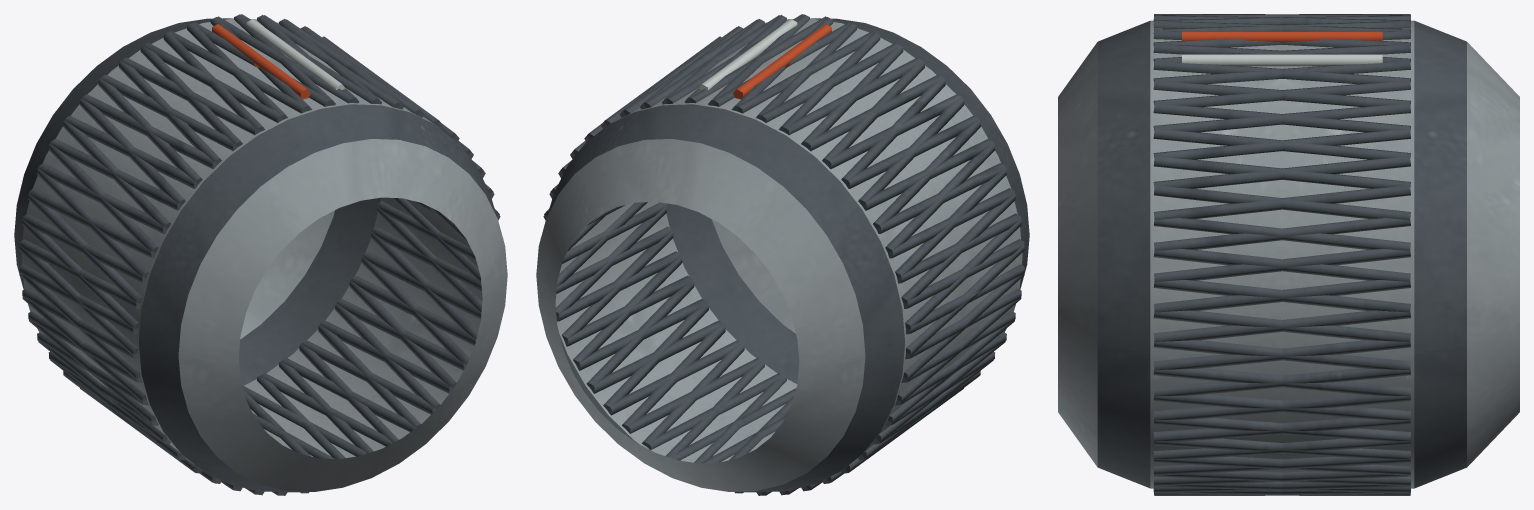
File: mech_optics_focus.fbx
The picture shows the model from 3 angles, left to right: view 1: azimuth 30°, elevation 25°; view 2: azimuth 150°, elevation 25°; view 3: azimuth 270°, elevation 25°; orthographic projection. The views are drawn at different scales.
Visible parts, largest first — view 1: SM_mech_optics_focus; view 2: SM_mech_optics_focus; view 3: SM_mech_optics_focus.
Part boxes in pixels (left/top/right/bottom): SM_mech_optics_focus: left=14, top=14, right=507, bottom=495; SM_mech_optics_focus: left=536, top=14, right=1029, bottom=495; SM_mech_optics_focus: left=1058, top=14, right=1519, bottom=495.
Bounding box in the file's own units: 0.0365 × 0.0369 × 0.035.
4 materials, 4 textured.
